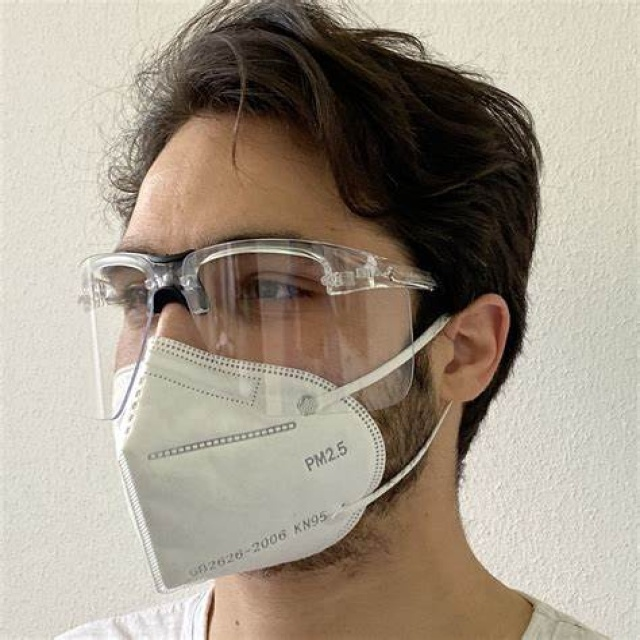Safety_Goggles: (87, 243, 402, 384)
